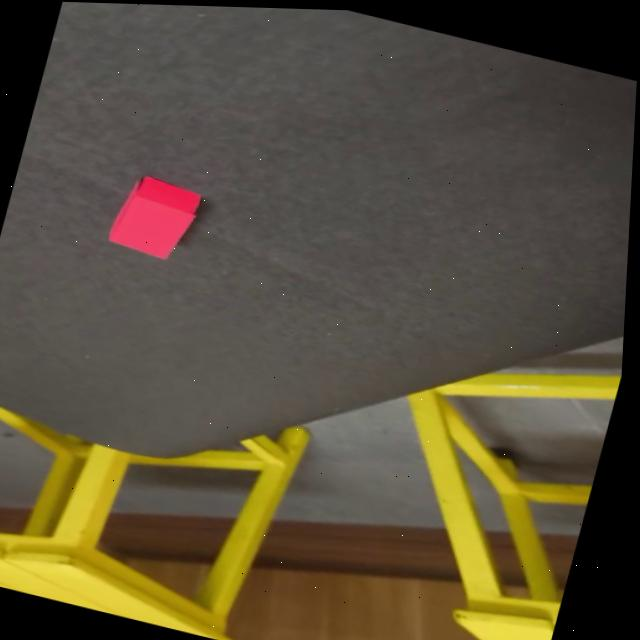red block: (104, 169, 205, 265)
